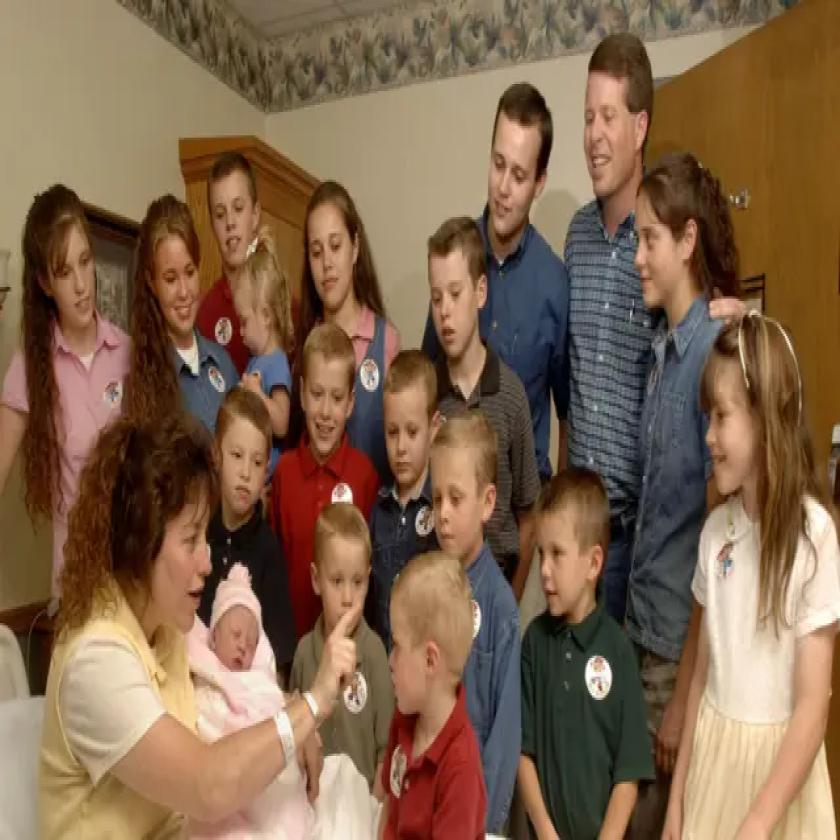Sin_casco: (66, 406, 223, 644), (705, 325, 796, 533), (635, 130, 719, 320), (478, 58, 550, 248), (388, 556, 477, 708), (574, 20, 649, 198), (416, 214, 502, 368), (18, 176, 93, 329), (537, 465, 613, 612), (378, 322, 440, 485), (303, 189, 368, 327), (139, 183, 198, 334), (431, 427, 499, 555), (300, 318, 361, 460), (214, 379, 270, 512), (226, 234, 288, 348), (313, 506, 374, 618), (210, 140, 259, 264)
